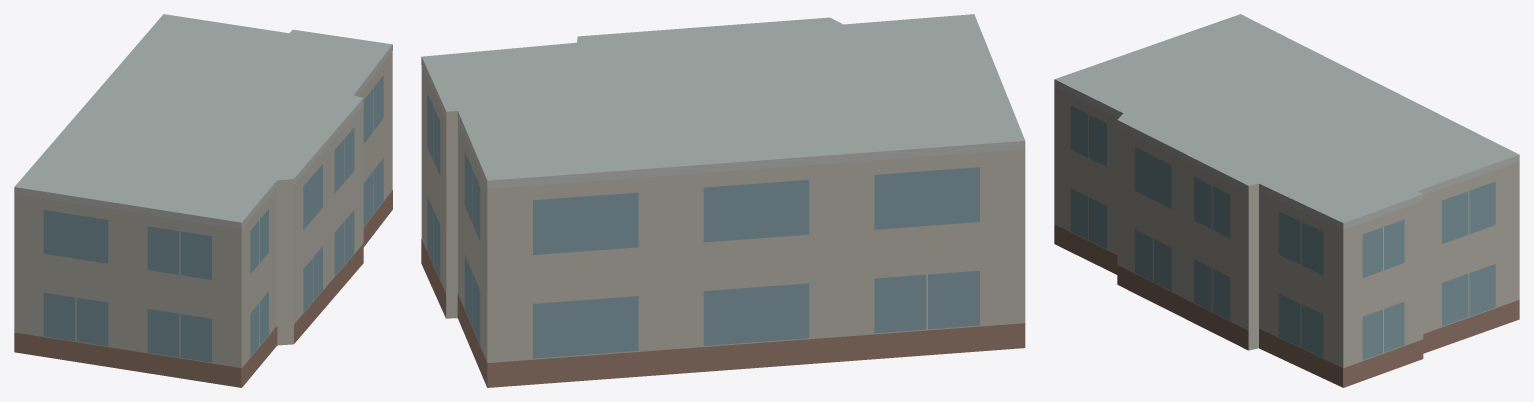
The model's file is survey-upis-32590314.glb.
The picture shows the model from 3 angles, left to right: view 1: azimuth 30°, elevation 25°; view 2: azimuth 150°, elevation 25°; view 3: azimuth 270°, elevation 25°; orthographic projection. The views are drawn at different scales.
Visible parts, largest first — view 1: survey-upis-32590314.tmp; view 2: survey-upis-32590314.tmp; view 3: survey-upis-32590314.tmp.
Boxes of the visible parts, left/top/right/bottom form: survey-upis-32590314.tmp: left=14, top=14, right=392, bottom=387; survey-upis-32590314.tmp: left=421, top=14, right=1025, bottom=387; survey-upis-32590314.tmp: left=1054, top=14, right=1519, bottom=387.
Size of the model in its own units: 16.62 by 6.1 by 15.62.
